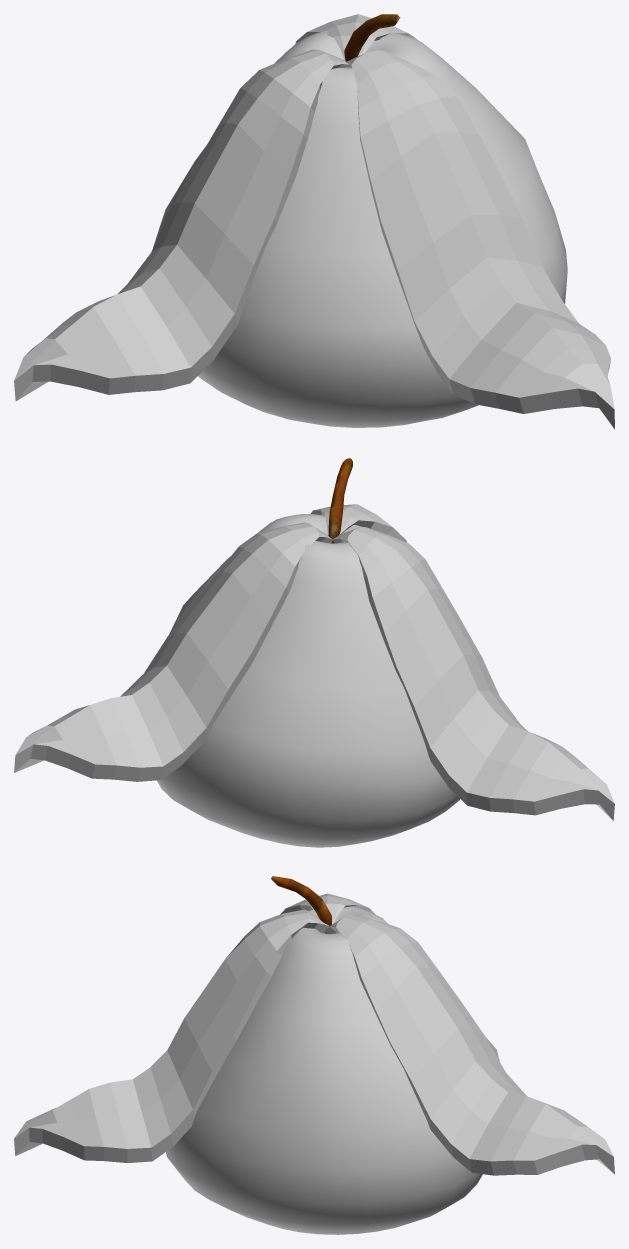
The model's file is grow_fruit.fbx.
3 views of the same model, one above another, from view 1: azimuth 30°, elevation 25°; view 2: azimuth 150°, elevation 25°; view 3: azimuth 270°, elevation 25° (orthographic). The views are drawn at different scales.
Visible parts, largest first — view 1: Sphere07.001, Cube.005, Cube.003, Cube.004, Cylinder05.001; view 2: Sphere07.001, Cube.003, Cube.004, Cube.005, Cylinder05.001; view 3: Sphere07.001, Cube.004, Cube.005, Cylinder05.001, Cube.003.
Boxes of the visible parts, x1=… form: Sphere07.001: x1=153, y1=30, x2=567, y2=427; Cube.005: x1=346, y1=50, x2=614, y2=429; Cube.003: x1=14, y1=49, x2=349, y2=401; Cube.004: x1=295, y1=14, x2=417, y2=59; Cylinder05.001: x1=344, y1=14, x2=400, y2=62; Sphere07.001: x1=157, y1=514, x2=460, y2=847; Cube.003: x1=333, y1=527, x2=614, y2=820; Cube.004: x1=14, y1=522, x2=332, y2=781; Cube.005: x1=311, y1=504, x2=407, y2=542; Cylinder05.001: x1=328, y1=458, x2=352, y2=543; Sphere07.001: x1=166, y1=906, x2=499, y2=1234; Cube.004: x1=325, y1=915, x2=614, y2=1175; Cube.005: x1=14, y1=909, x2=329, y2=1163; Cylinder05.001: x1=271, y1=876, x2=331, y2=933; Cube.003: x1=280, y1=893, x2=375, y2=924.
Bounding box in the file's own units: 14.93 × 10.37 × 17.31.
